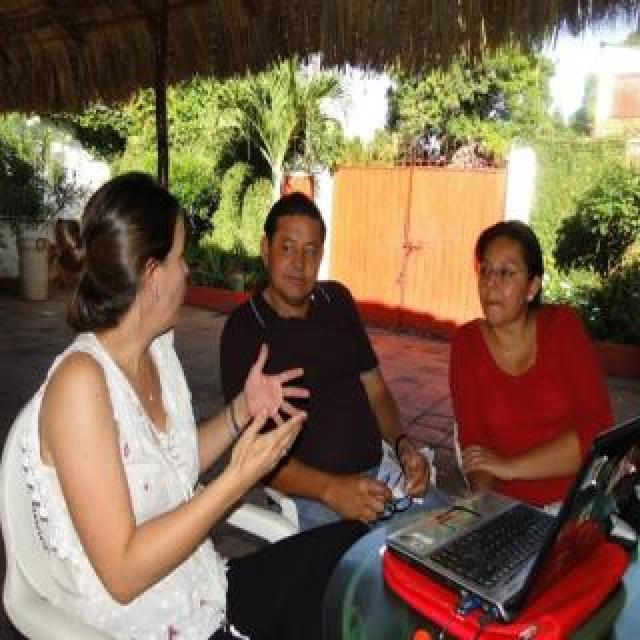laptop_computer: (406, 412, 640, 622)
